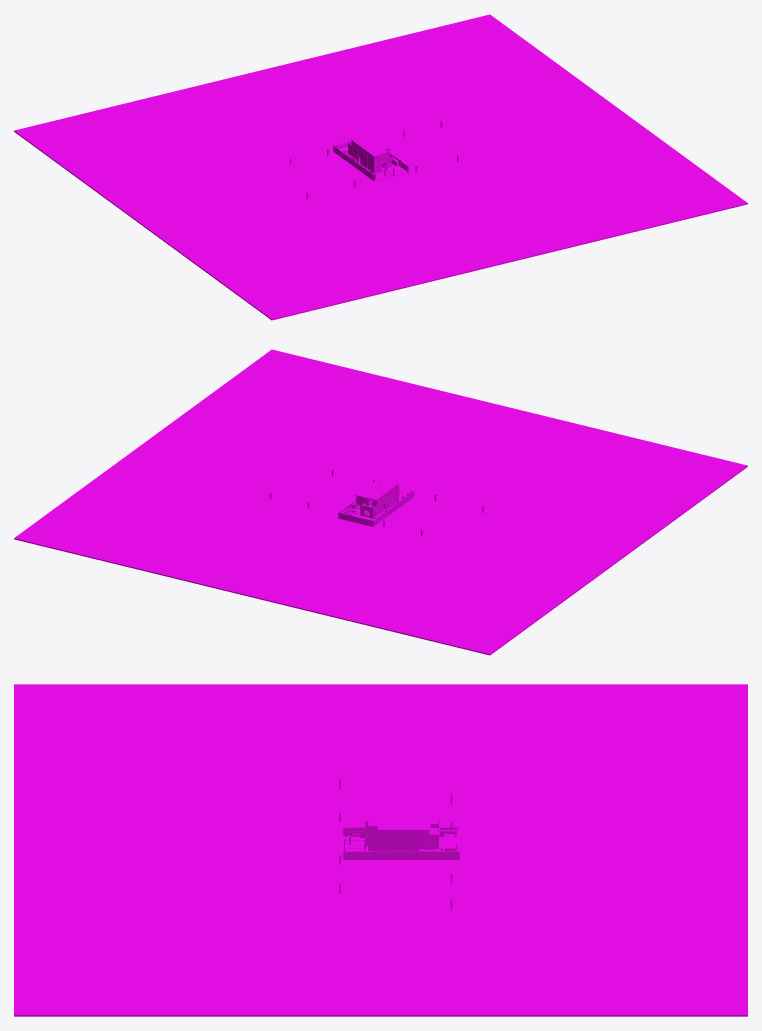
Rendered from collider.glb.
The picture shows the model from 3 angles, top to bottom: view 1: azimuth 30°, elevation 25°; view 2: azimuth 150°, elevation 25°; view 3: azimuth 270°, elevation 25°; orthographic projection. The views are drawn at different scales.
Visible parts, largest first — view 1: collider; view 2: collider; view 3: collider.
Boxes of the visible parts, x1=… form: collider: x1=14, y1=14, x2=747, y2=320; collider: x1=14, y1=349, x2=747, y2=655; collider: x1=14, y1=684, x2=747, y2=1016.
Size of the model in its own units: 190 by 8.45 by 178.
